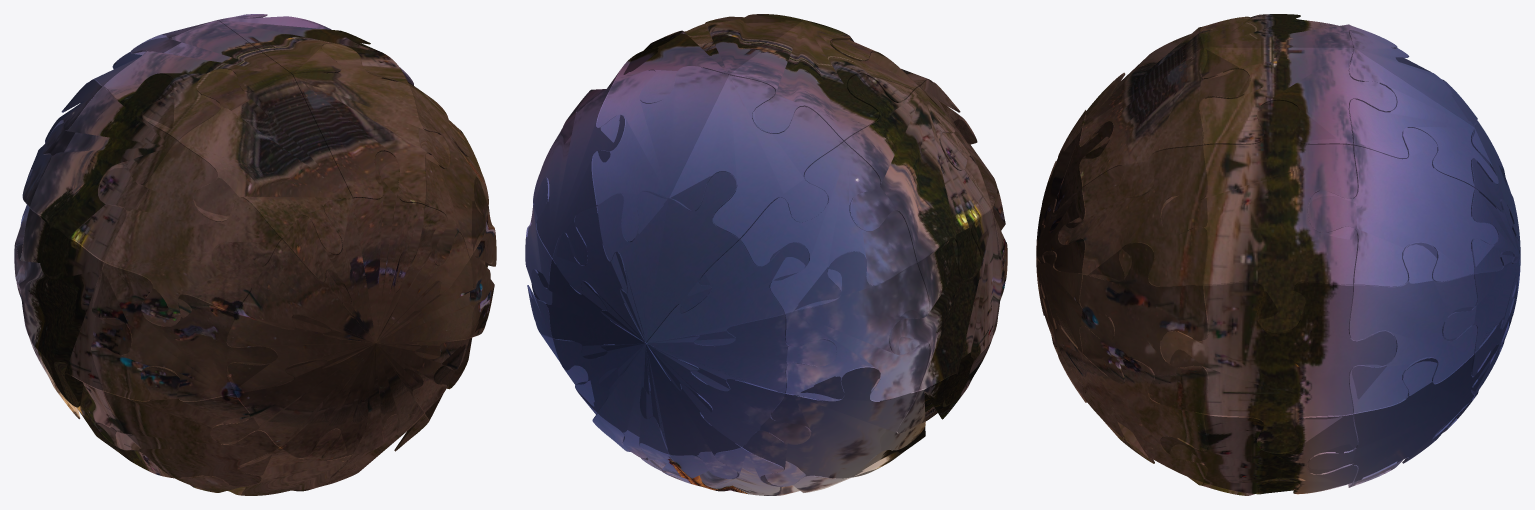
The model's file is easy-puzzle-v17.fbx.
3 views of the same model, side by side, from view 1: azimuth 30°, elevation 25°; view 2: azimuth 150°, elevation 25°; view 3: azimuth 270°, elevation 25° (orthographic).
Visible parts, largest first — view 1: Street View 360 1.013, Street View 360 1.045, Street View 360 1.018, Street View 360 1.042, Street View 360 1.046, Street View 360 1.044, Street View 360 1.035, Street View 360 1.047, Street View 360 1.017, Street View 360 1.043, Street View 360 1.005, Street View 360 1.048 (+6 smaller); view 2: Street View 360 1.025, Street View 360 1.027, Street View 360 1.042, Street View 360 1.028, Street View 360 1.016, Street View 360 1.006, Street View 360 1.029, Street View 360 1.035, Street View 360 1.017, Street View 360 1.034, Street View 360 1.005, Street View 360 1.030 (+7 smaller); view 3: Street View 360 1.041, Street View 360 1.040, Street View 360 1.034, Street View 360 1.043, Street View 360 1.051, Street View 360 1.005, Street View 360 1.033, Street View 360 1.044, Street View 360 1.039, Street View 360 1.013, Street View 360 1.050, Street View 360 1.025 (+6 smaller).
Boxes of the visible parts, bbox=[...] form: Street View 360 1.013: bbox=[212, 151, 490, 460]; Street View 360 1.045: bbox=[99, 141, 281, 326]; Street View 360 1.018: bbox=[178, 69, 352, 254]; Street View 360 1.042: bbox=[30, 74, 177, 279]; Street View 360 1.046: bbox=[92, 262, 277, 401]; Street View 360 1.044: bbox=[293, 43, 450, 204]; Street View 360 1.035: bbox=[14, 208, 132, 406]; Street View 360 1.047: bbox=[96, 367, 279, 486]; Street View 360 1.017: bbox=[103, 20, 292, 141]; Street View 360 1.043: bbox=[410, 86, 488, 265]; Street View 360 1.005: bbox=[218, 14, 408, 85]; Street View 360 1.048: bbox=[175, 428, 359, 495]; Street View 360 1.025: bbox=[531, 171, 836, 478]; Street View 360 1.027: bbox=[740, 142, 916, 313]; Street View 360 1.042: bbox=[844, 74, 991, 279]; Street View 360 1.028: bbox=[784, 251, 929, 401]; Street View 360 1.016: bbox=[669, 75, 843, 239]; Street View 360 1.006: bbox=[592, 66, 728, 242]; Street View 360 1.029: bbox=[742, 366, 924, 486]; Street View 360 1.035: bbox=[889, 208, 1007, 406]; Street View 360 1.017: bbox=[729, 20, 917, 141]; Street View 360 1.034: bbox=[533, 86, 625, 265]; Street View 360 1.005: bbox=[612, 14, 802, 103]; Street View 360 1.030: bbox=[662, 447, 845, 495]; Street View 360 1.041: bbox=[1160, 100, 1357, 332]; Street View 360 1.040: bbox=[1160, 281, 1396, 452]; Street View 360 1.034: bbox=[1307, 127, 1498, 286]; Street View 360 1.043: bbox=[1058, 145, 1208, 286]; Street View 360 1.051: bbox=[1080, 242, 1208, 413]; Street View 360 1.005: bbox=[1199, 47, 1396, 145]; Street View 360 1.033: bbox=[1348, 242, 1477, 413]; Street View 360 1.044: bbox=[1080, 47, 1250, 197]; Street View 360 1.039: bbox=[1160, 414, 1357, 493]; Street View 360 1.013: bbox=[1036, 114, 1114, 401]; Street View 360 1.050: bbox=[1058, 344, 1208, 482]; Street View 360 1.025: bbox=[1443, 80, 1520, 426].
Bounding box in the file's own units: 191 × 189 × 192.
